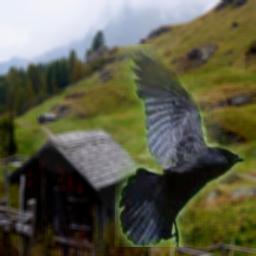Crow: (115, 44, 245, 247)
